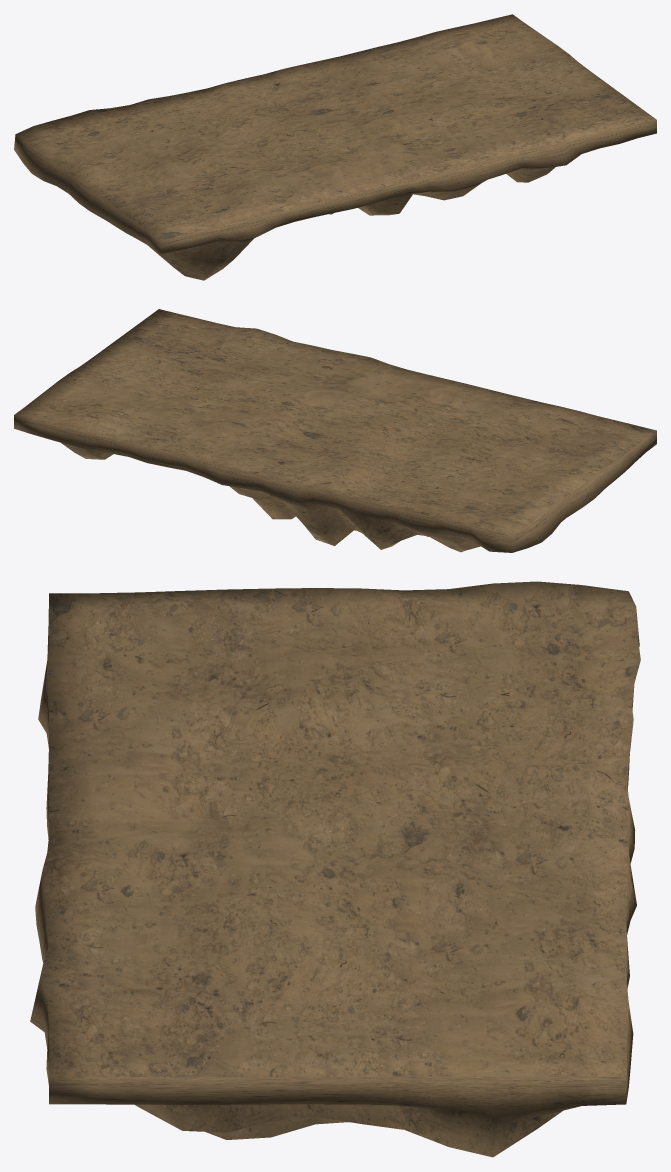
The model's file is SmallIsland.obj.
3 renders of one model, top to bottom at view 1: azimuth 30°, elevation 25°; view 2: azimuth 150°, elevation 25°; view 3: azimuth 270°, elevation 25°, orthographic. The views are drawn at different scales.
Parts seen in each view (by area): view 1: Earthpatch_Small; view 2: Earthpatch_Small; view 3: Earthpatch_Small.
Boxes of the visible parts, <box> form: Earthpatch_Small: <box>14,14,656,280</box>; Earthpatch_Small: <box>14,309,656,552</box>; Earthpatch_Small: <box>30,581,640,1157</box>.
Bounding box in the file's own units: 52.34 × 11.35 × 27.4.
